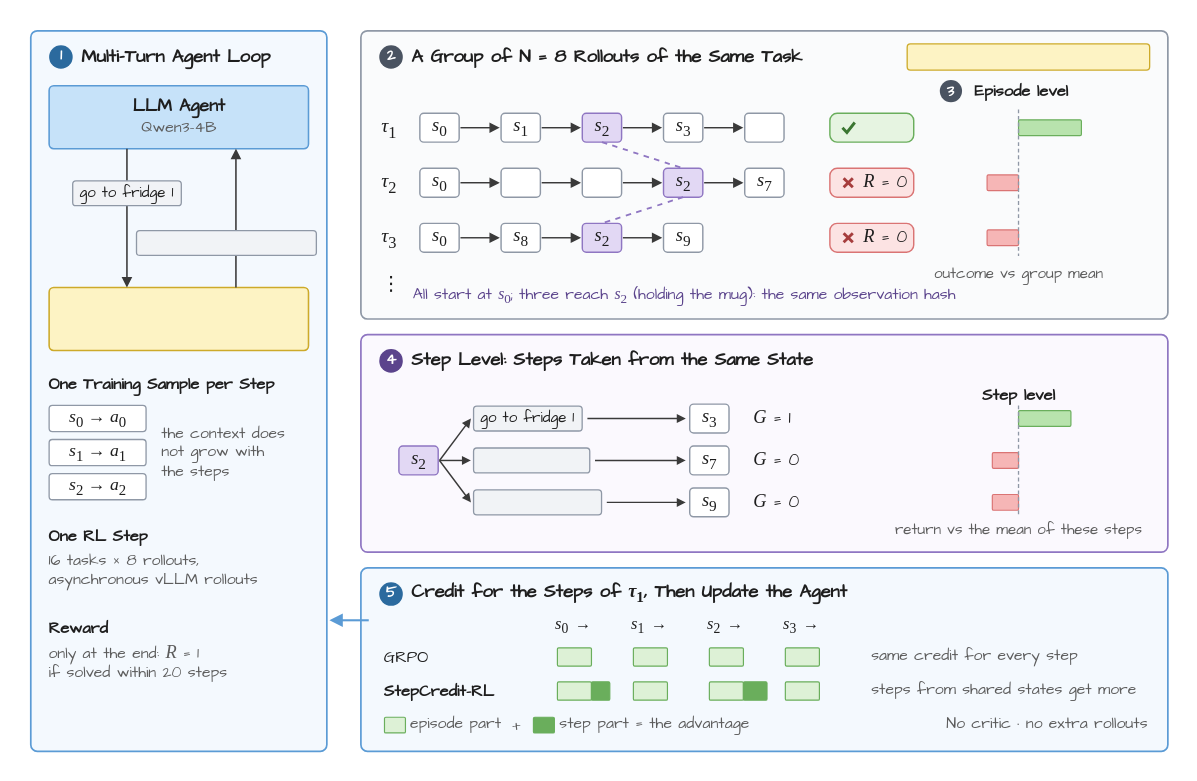
Some shapes in this 1197 by 781 pixel diagram are drawn without their labels. Here are the shapes that lost their labels. From the top down, the centre of each, then its label:
At (1028,56): "Task: “put a cool mug in cabinet”".
At (763,127): "s 4".
At (871,127): "R = 1".
At (520,182): "s 5".
At (601,182): "s 6".
At (225,242): "“You arrive at fridge 1.”".
At (178,318): "Environment ALFWorld household tasks".
At (531,460): "go to cabinet 1".
At (537,502): "go to sinkbasin 1".
